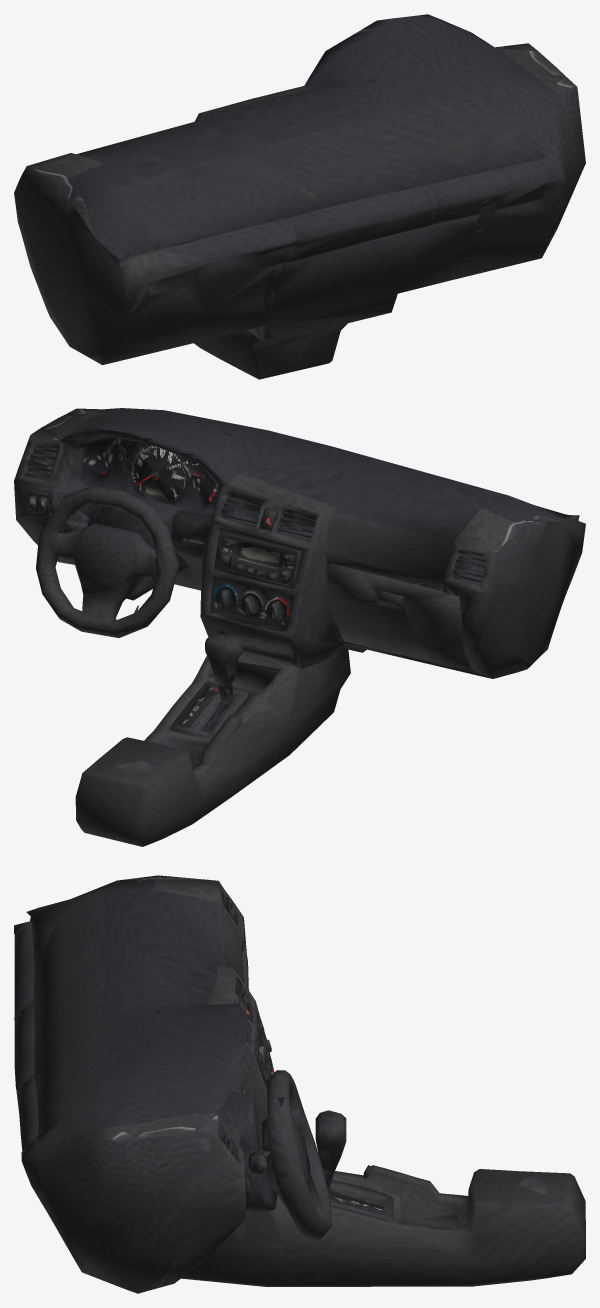
The model's file is SM_Ini_CarDash.fbx.
The picture shows the model from 3 angles, top to bottom: view 1: azimuth 30°, elevation 25°; view 2: azimuth 150°, elevation 25°; view 3: azimuth 270°, elevation 25°; orthographic projection. The views are drawn at different scales.
Visible parts, largest first — view 1: CarDash; view 2: CarDash; view 3: CarDash.
Boxes of the visible parts, left/top/right/bottom form: CarDash: left=14, top=14, right=585, bottom=379; CarDash: left=14, top=408, right=585, bottom=846; CarDash: left=14, top=875, right=585, bottom=1293.
Size of the model in its own units: 1.42 by 0.7972 by 1.32.
Materials: 1 (1 with a texture image).
